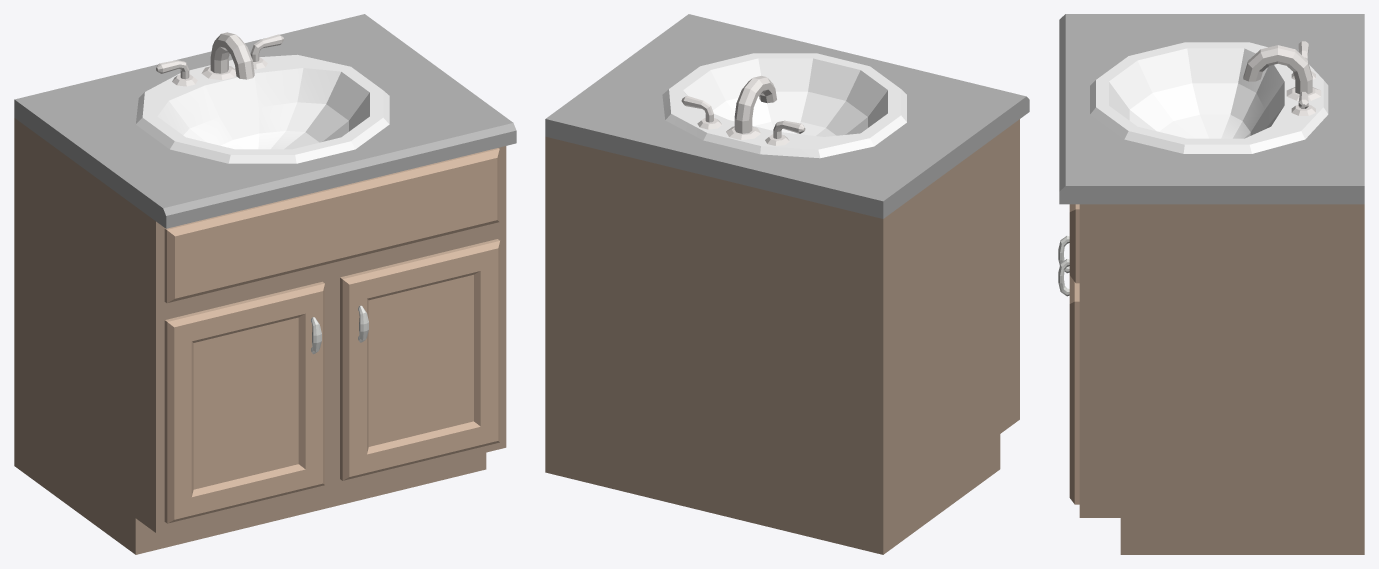
File: Structure_Bathroom_Cabinet_Sink.fbx
3 renders of one model, left to right at view 1: azimuth 30°, elevation 25°; view 2: azimuth 150°, elevation 25°; view 3: azimuth 270°, elevation 25°, orthographic. The views are drawn at different scales.
Parts seen in each view (by area): view 1: object5.015, object3.027, object6.007, object1.064, object10.005, object9.005; view 2: object5.015, object3.027, object10.005, object9.005; view 3: object5.015, object3.027, object10.005, object1.064, object9.005.
Part boxes in pixels (bbox=[...]): object5.015: bbox=[14, 118, 506, 554]; object3.027: bbox=[14, 14, 516, 228]; object6.007: bbox=[164, 281, 324, 523]; object1.064: bbox=[340, 239, 500, 480]; object10.005: bbox=[135, 54, 389, 163]; object9.005: bbox=[201, 32, 254, 80]; object5.015: bbox=[545, 119, 1019, 554]; object3.027: bbox=[545, 14, 1029, 218]; object10.005: bbox=[662, 53, 906, 158]; object9.005: bbox=[726, 75, 776, 139]; object5.015: bbox=[1069, 204, 1364, 554]; object3.027: bbox=[1059, 14, 1364, 204]; object10.005: bbox=[1090, 42, 1328, 153]; object1.064: bbox=[1069, 275, 1079, 504]; object9.005: bbox=[1243, 45, 1321, 100].
Bounding box in the file's own units: 100 × 114 × 75.31.
